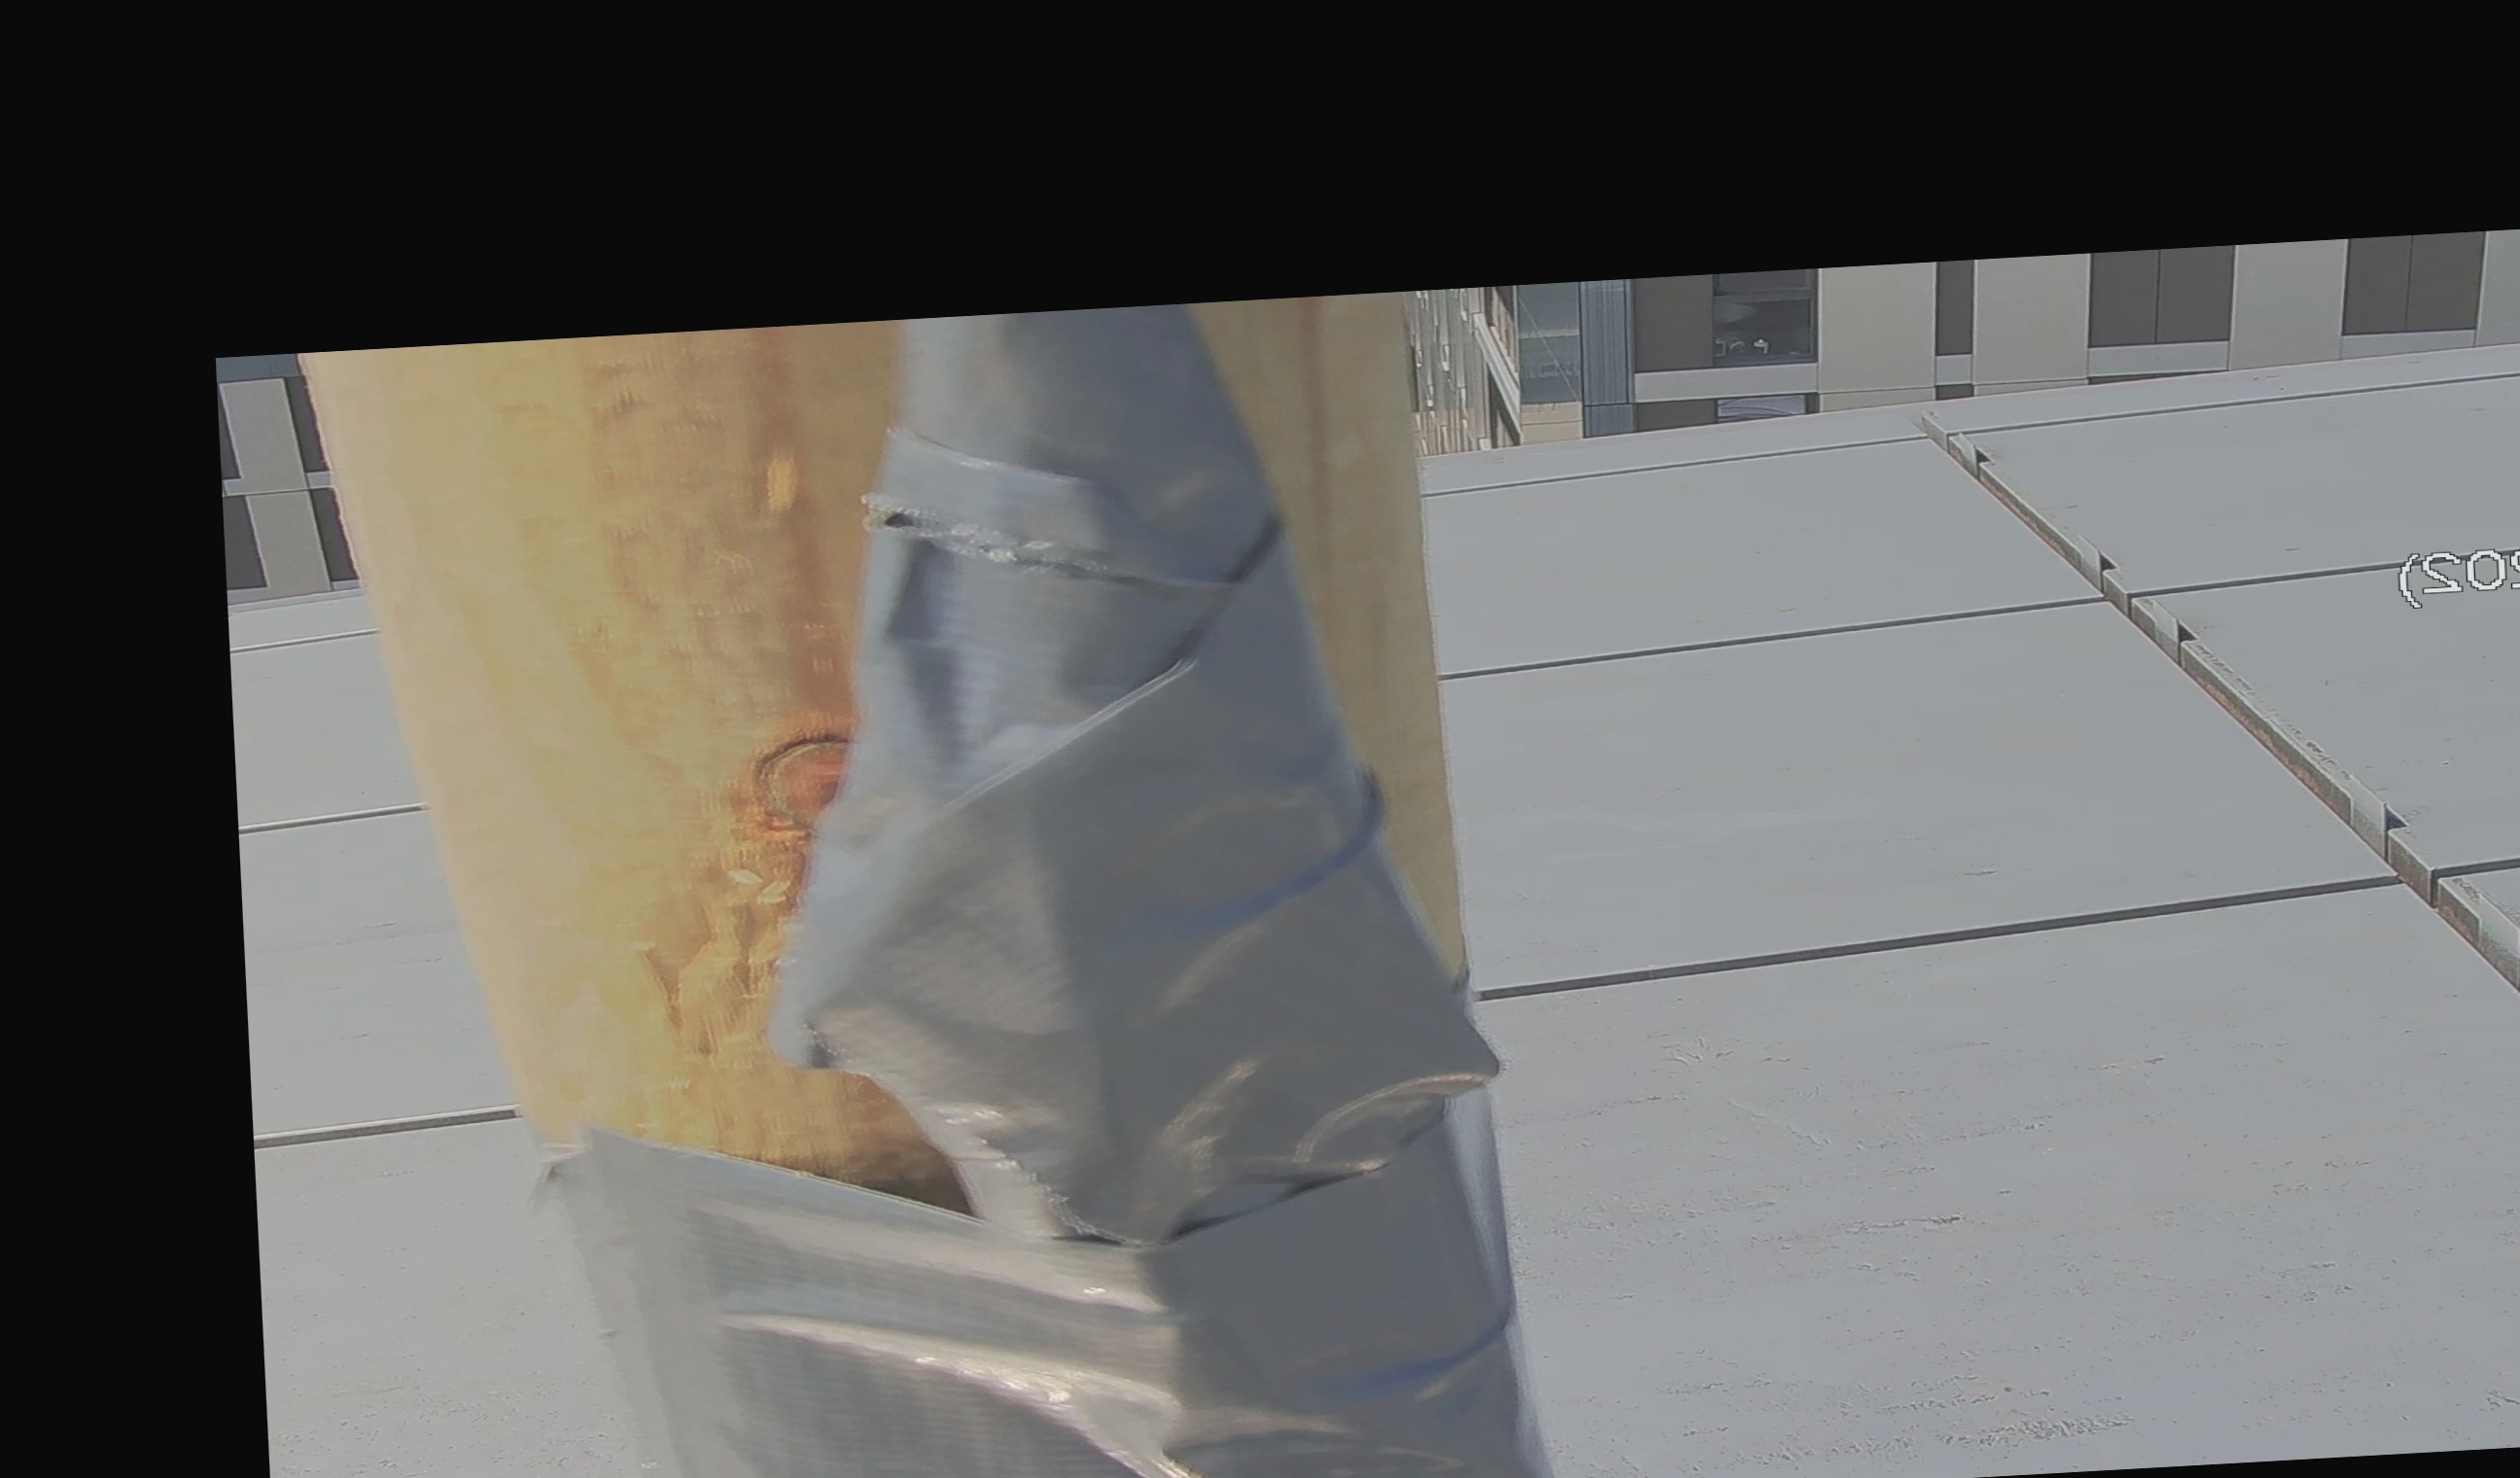Other: (691, 201, 1497, 1351)
